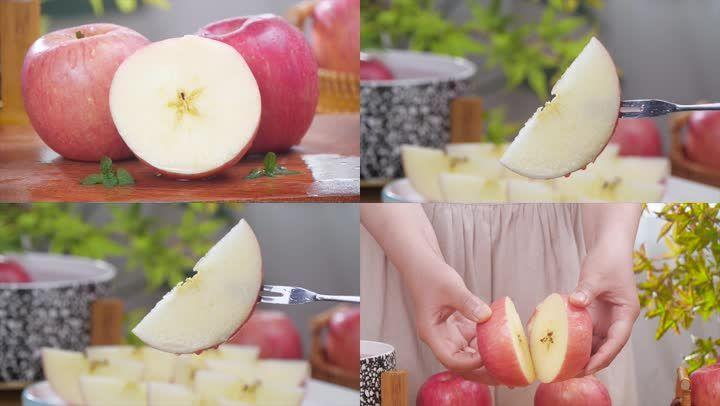apple: (92, 26, 262, 168), (495, 32, 622, 180), (129, 217, 263, 353), (20, 21, 148, 163), (198, 13, 321, 153), (531, 293, 595, 387), (474, 293, 537, 385), (413, 372, 493, 406)
